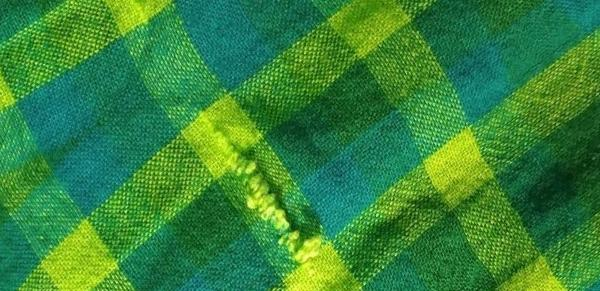knot: (194, 100, 332, 268)
